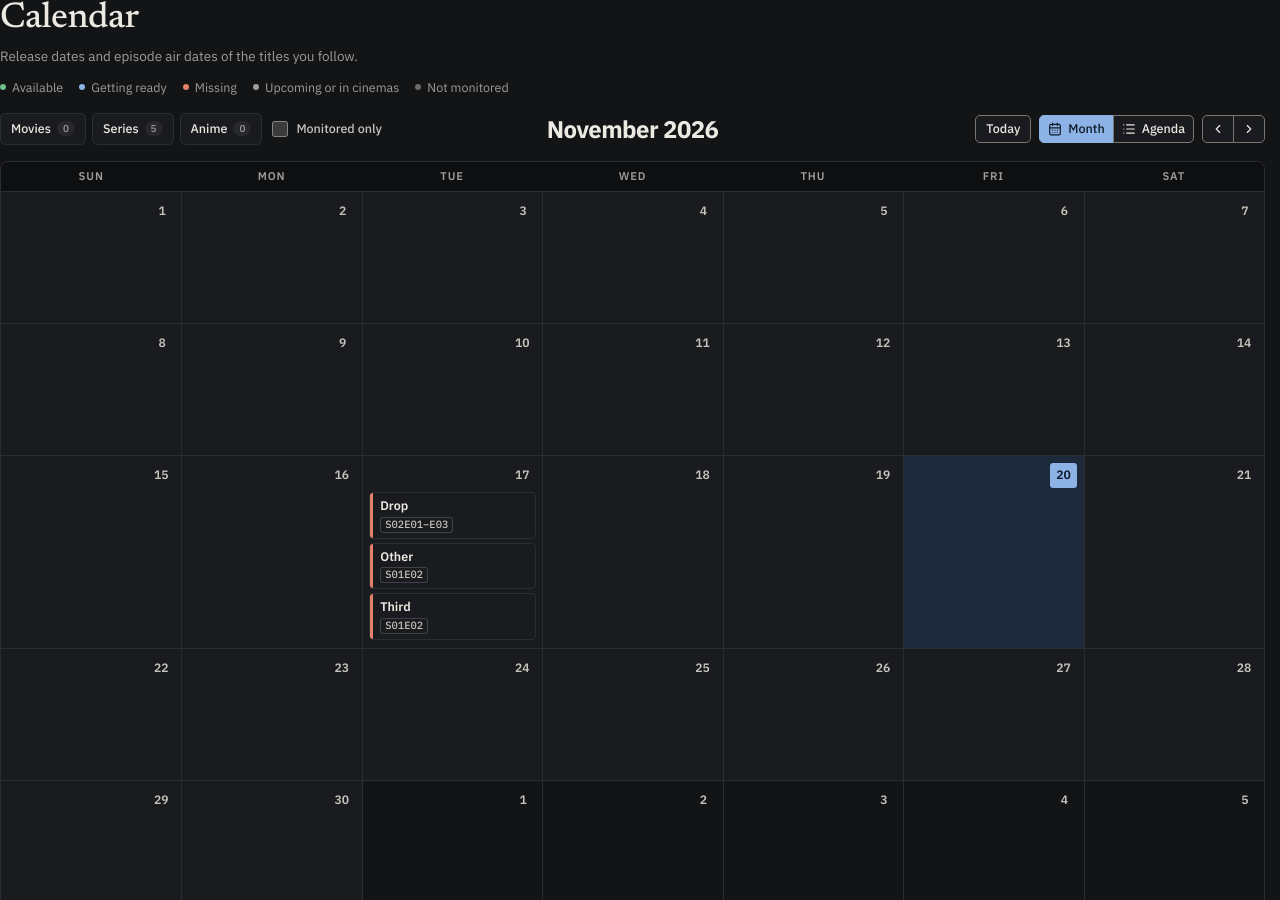
folds a series' consecutive episodes of a day into one month slot; the day's list keeps each episode
The image size is (1280, 900).
Expected: the number of links with test id "cal-event" is 3, left=369, top=492, right=536, bottom=539; left=369, top=543, right=536, bottom=589; left=369, top=593, right=536, bottom=640
Step 1. Click the button named ": 5 items" → (453,475), box left=369, top=463, right=536, bottom=488
(page scrolled)
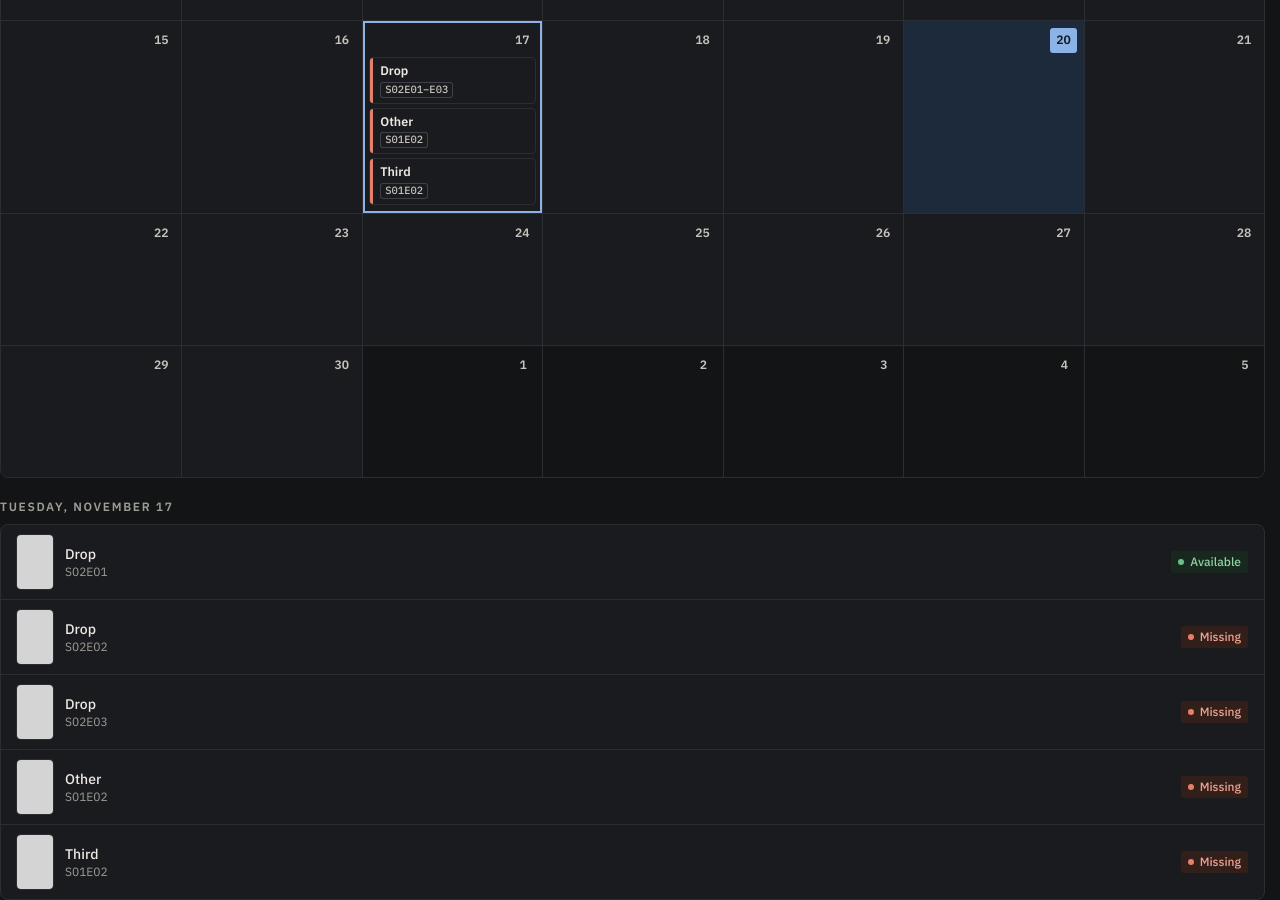
Now the number of links with test id "agenda-item" is 5, box left=1, top=525, right=1264, bottom=599; left=1, top=600, right=1264, bottom=674; left=1, top=675, right=1264, bottom=749; left=1, top=750, right=1264, bottom=824; left=1, top=825, right=1264, bottom=899
